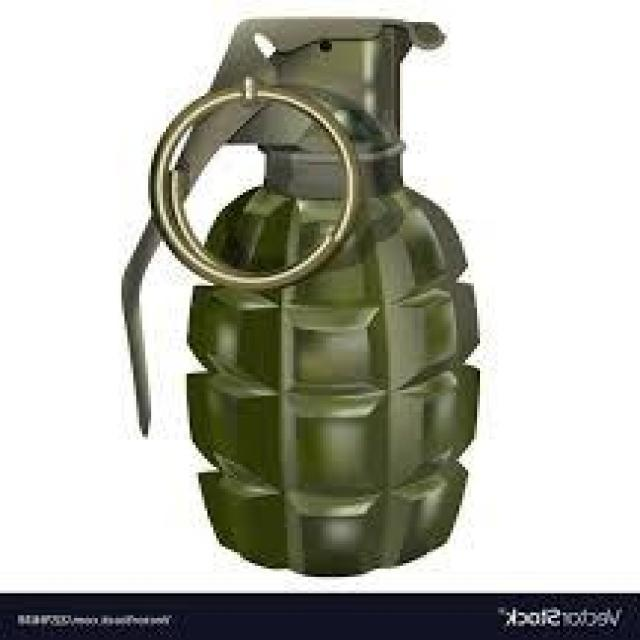grenade: (121, 12, 495, 576)
